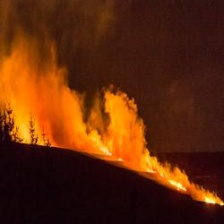fire: (88, 143, 224, 207)
smoke: (1, 10, 139, 132)
